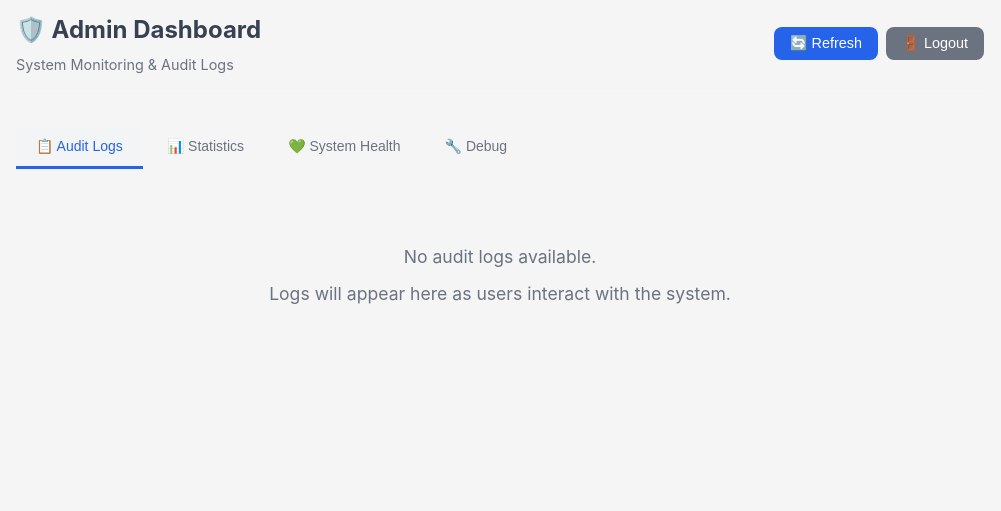
Test: AdminPanel › System Health Tab › displays system health data correctly
# Switch to System Health tab
Click the button "💚 System Health".
click(344, 148)  # box [268,126,420,169]
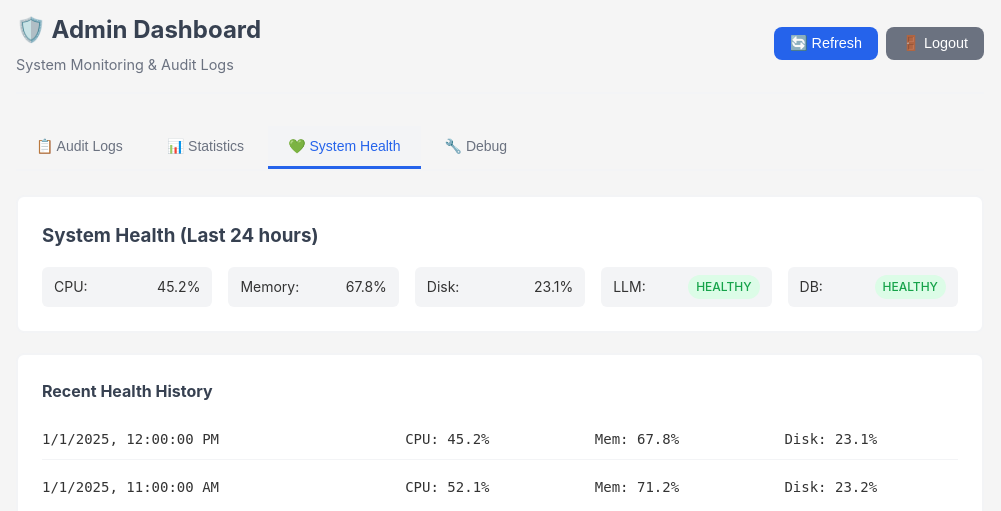
Expected: the heading "System Health (Last 24 hours)" is shown, [42,224,318,247]
Expected: the text "45.2%" is shown, [157,276,200,298]
Expected: the text "67.8%" is shown, [346,276,387,298]
